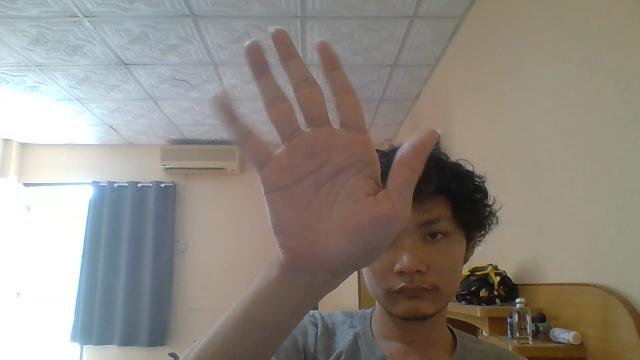Stop: (210, 26, 440, 282)
